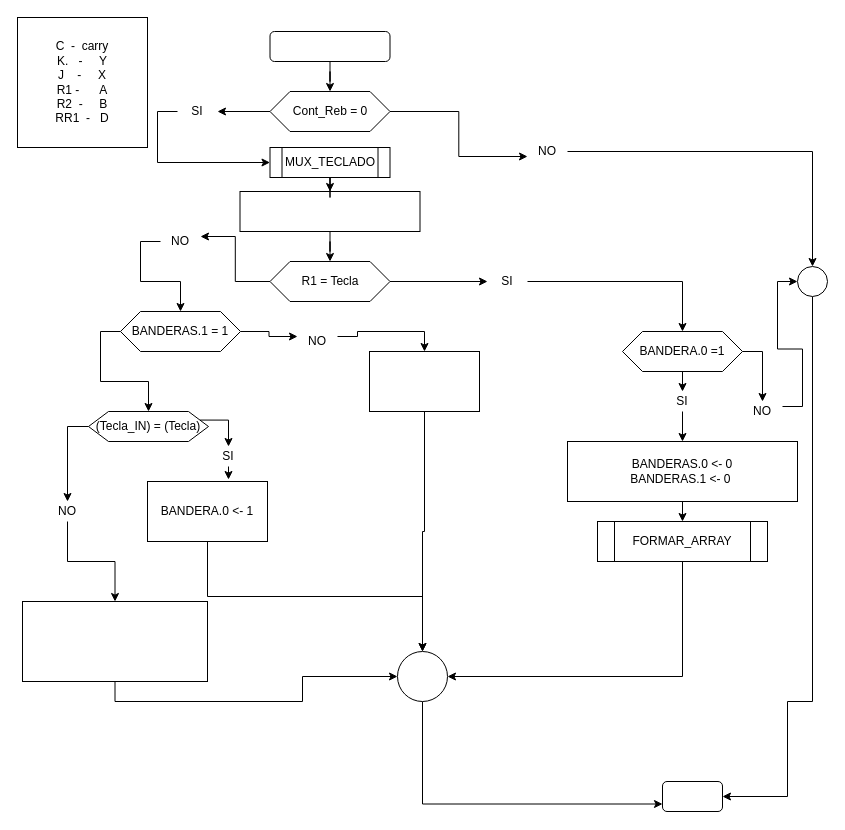
This 845x830 diagram has some shape labels left out. Each missing label, with the centre of its shape:
R1 <- $FF: point (329, 211)
RETURN: point (692, 796)
TAREA_TECLADO: point (329, 46)
Tecla <- $FF Tecla_IN <- $FF BANDERAS <- %.00000011: point (115, 641)
Tecla_IN <-( Tecla) BANDERAS.1 <- 1 Cont_Reb <- #$0A: point (424, 381)
